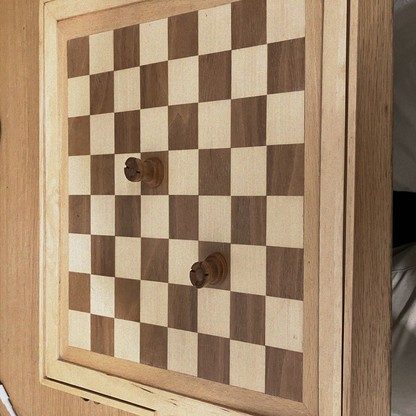rock_black: (190, 254, 227, 289), (124, 157, 164, 188)
